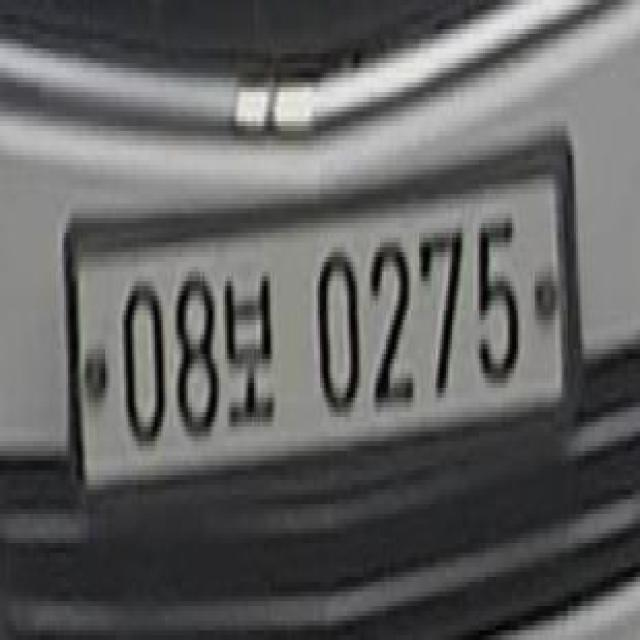illegal_plate: (67, 159, 572, 506)
